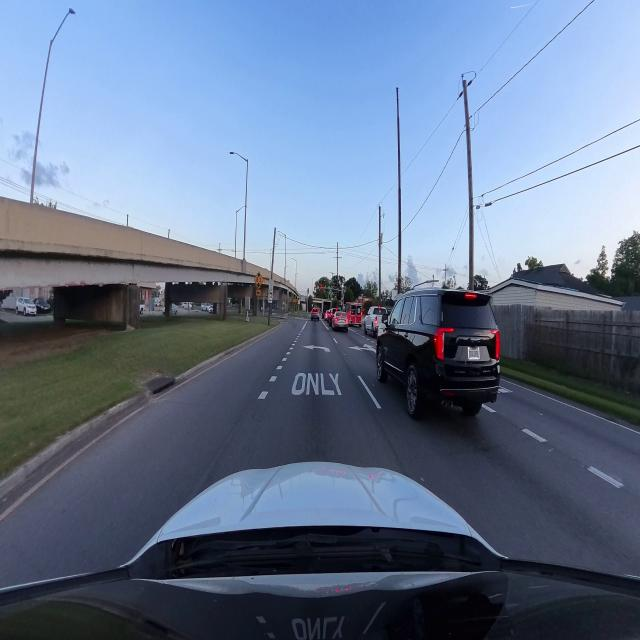car: (377, 290, 499, 416), (364, 306, 388, 336), (332, 311, 348, 332), (310, 308, 320, 322)
